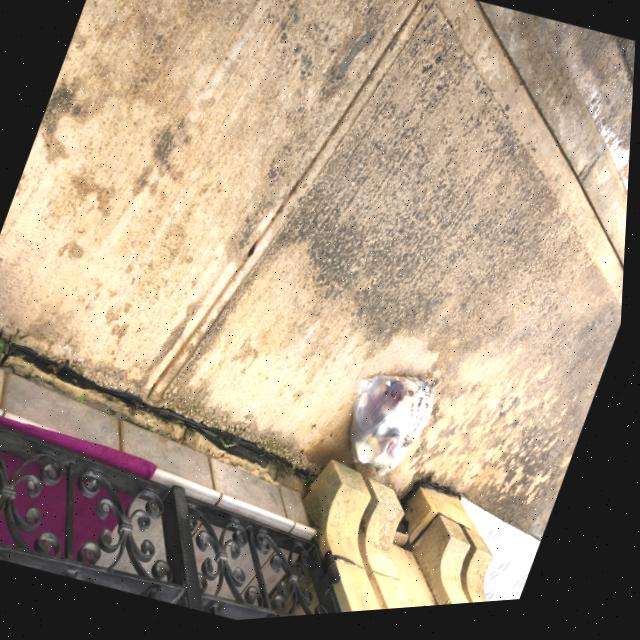Organic Waste -White Bag-: (326, 357, 464, 509)
